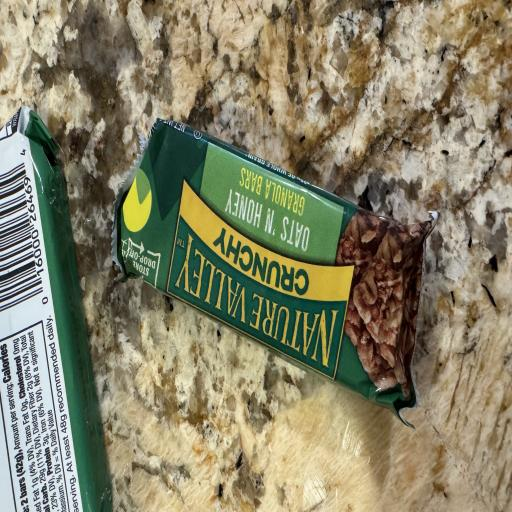granola: (113, 120, 437, 414), (0, 108, 111, 511)
